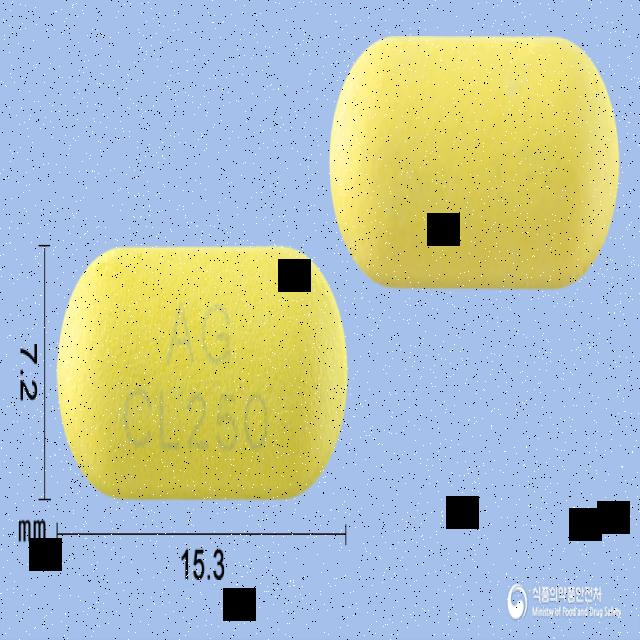Shuclari Tab: (57, 248, 350, 502)
